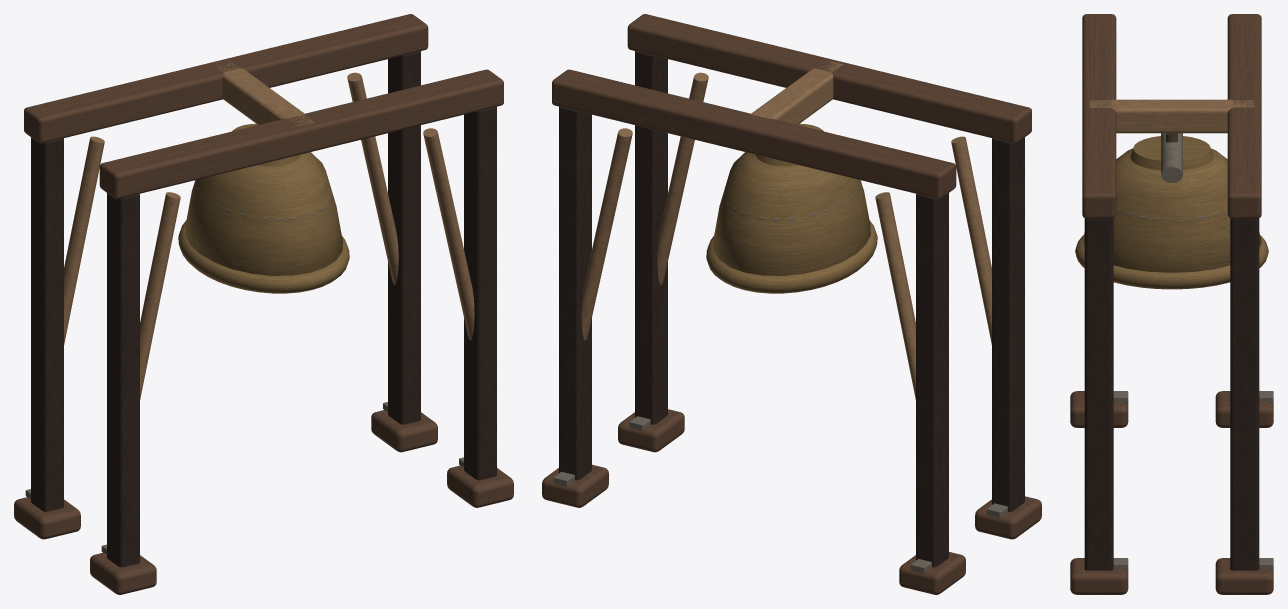
File: bell_frame.glb
3 renders of one model, left to right at view 1: azimuth 30°, elevation 25°; view 2: azimuth 150°, elevation 25°; view 3: azimuth 270°, elevation 25°, orthographic. The views are drawn at different scales.
Parts seen in each view (by area): view 1: bell_frame; view 2: bell_frame; view 3: bell_frame.
Part boxes in pixels (x1,y1,x2,y2): bell_frame: (14, 14, 513, 594); bell_frame: (542, 14, 1041, 594); bell_frame: (1070, 14, 1273, 594).
Bounding box in the file's own units: 2.6 × 2.6 × 1.2.
1 material, 1 textured.
